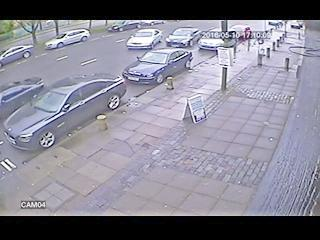Car: (16, 79, 123, 146), (124, 48, 192, 85), (1, 78, 43, 113), (45, 29, 90, 49), (0, 45, 33, 69), (126, 28, 162, 50), (166, 27, 202, 48), (200, 29, 234, 49), (108, 20, 142, 32), (229, 24, 252, 40), (140, 20, 166, 26)
Not Accident: (166, 27, 236, 50)
